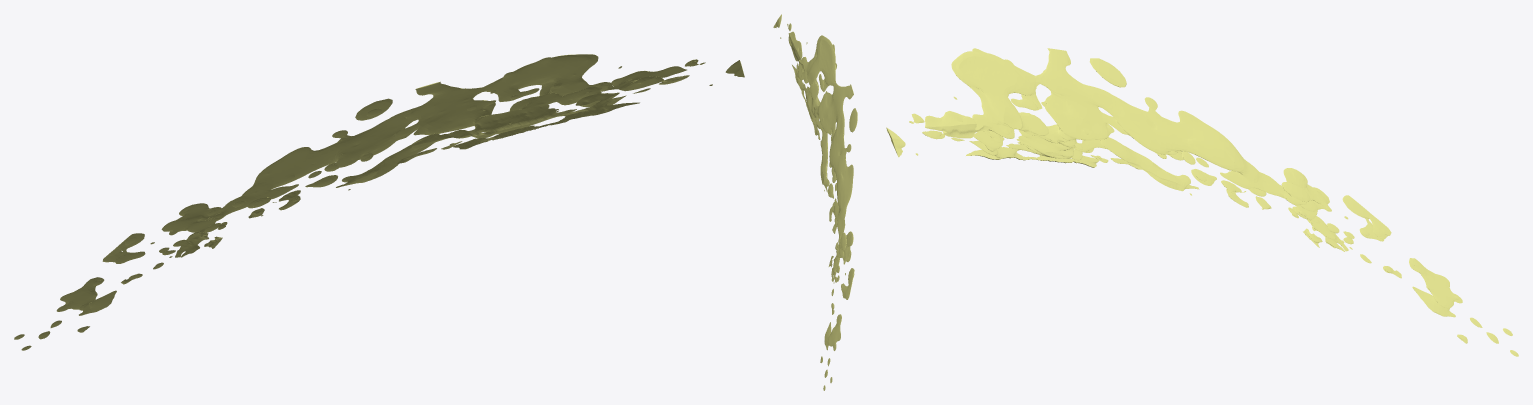
File: NAPL_2026_initial.glb
3 views of the same model, side by side, from view 1: azimuth 30°, elevation 25°; view 2: azimuth 150°, elevation 25°; view 3: azimuth 270°, elevation 25° (orthographic). The views are drawn at different scales.
Visible parts, largest first — view 1: SPDI_Union_Focused_COCs; view 2: SPDI_Union_Focused_COCs; view 3: SPDI_Union_Focused_COCs.
Part boxes in pixels (left/top/right/bottom): SPDI_Union_Focused_COCs: left=14, top=54, right=744, bottom=350; SPDI_Union_Focused_COCs: left=773, top=14, right=857, bottom=390; SPDI_Union_Focused_COCs: left=886, top=48, right=1518, bottom=356.
Bounding box in the file's own units: 959 × 938 × 1238.
